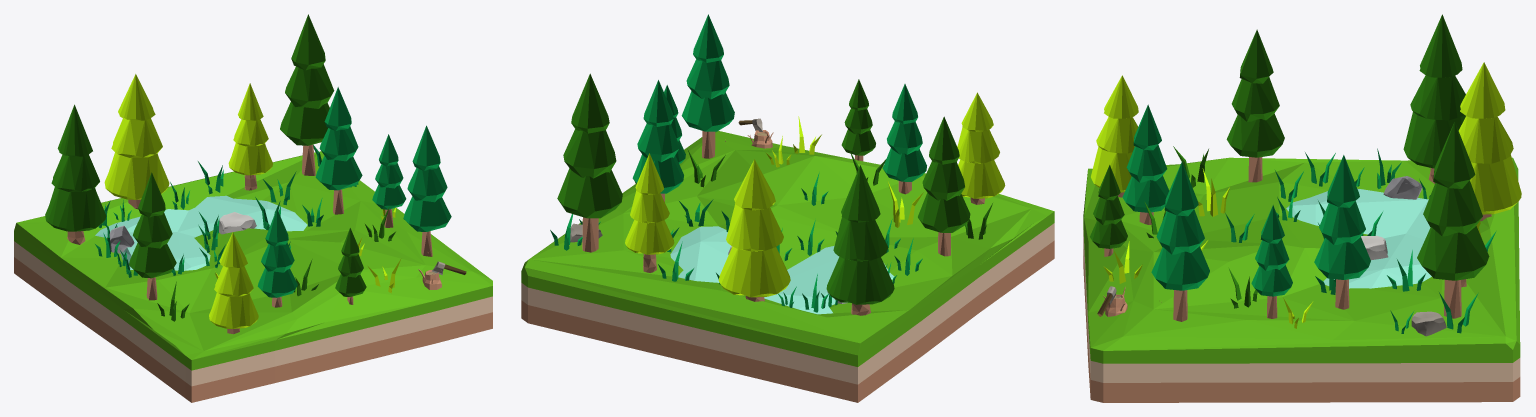
Rendered from 6_Forest.fbx.
3 views of the same model, side by side, from view 1: azimuth 30°, elevation 25°; view 2: azimuth 150°, elevation 25°; view 3: azimuth 270°, elevation 25° (orthographic). The views are drawn at different scales.
Parts seen in each view (by area): view 1: 6_Forest_Map; view 2: 6_Forest_Map; view 3: 6_Forest_Map.
Part boxes in pixels (box(x1,y1,x2,y2)): 6_Forest_Map: box(14, 14, 492, 402); 6_Forest_Map: box(521, 14, 1054, 402); 6_Forest_Map: box(1083, 14, 1521, 402).
Bounding box in the file's own units: 0.9008 × 0.5955 × 0.9145.
